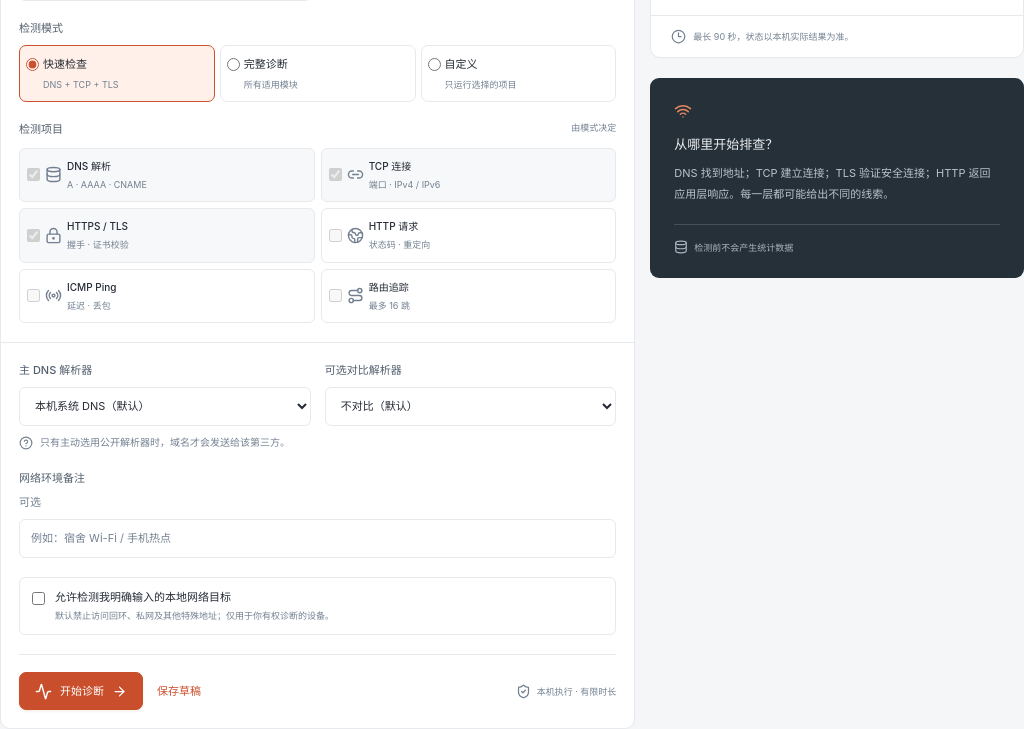
Test: diagnosis flow › saves a validated draft without running a probe
(page scrolled)
Click the button "保存草稿": click(179, 691) [157,678,201,705]
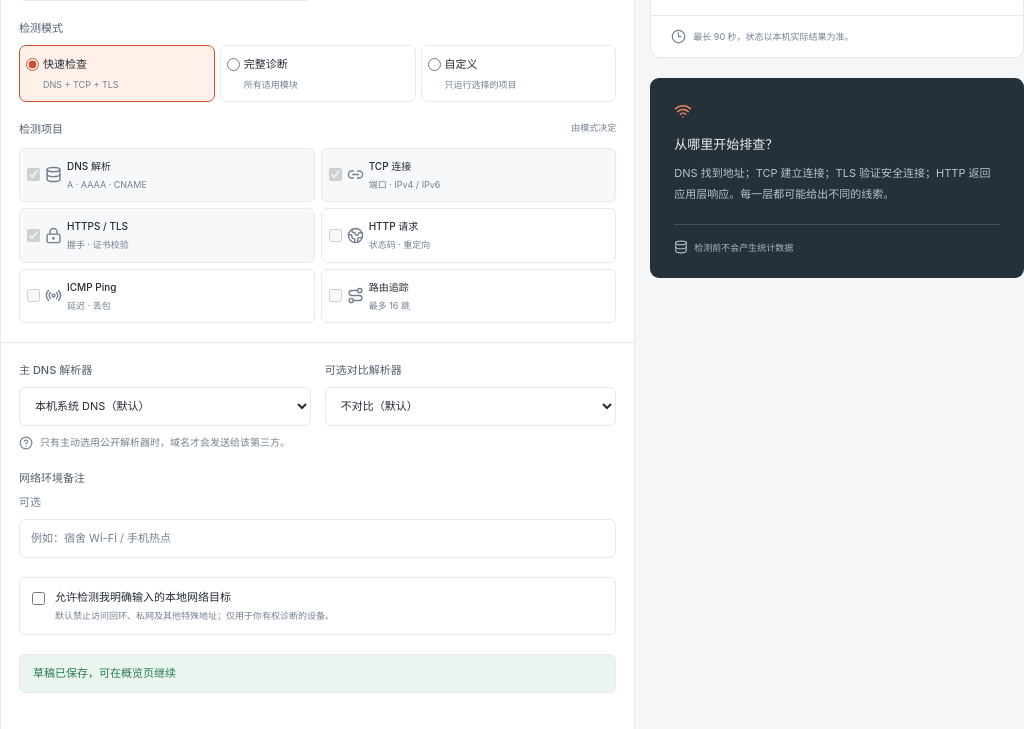
Result: the text "草稿已保存，可在概览页继续" is shown at [19,654,616,693]
